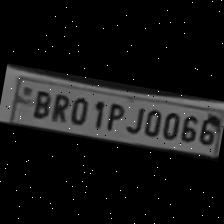0: (64, 92, 92, 128), (158, 106, 182, 142), (139, 104, 164, 138)
1: (86, 96, 107, 131)
6: (194, 110, 221, 148), (176, 110, 199, 145)
B: (27, 87, 52, 120)
J: (122, 101, 144, 137)
P: (99, 97, 126, 133)
R: (47, 88, 71, 124)
